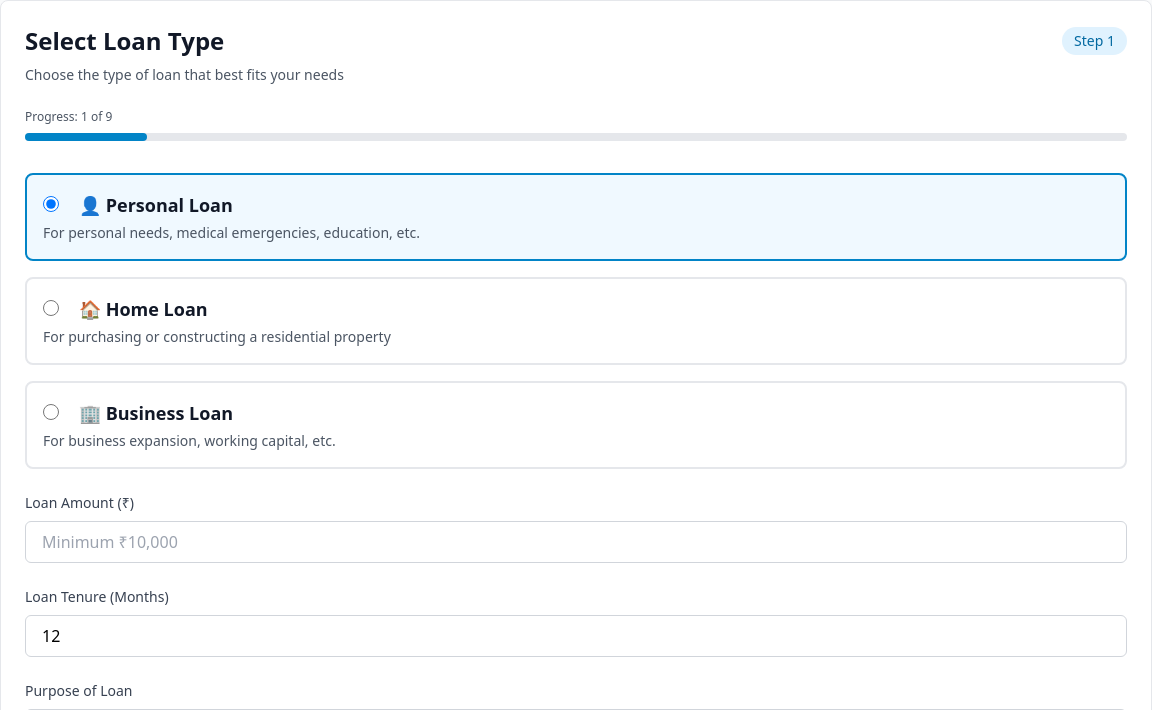
Step1LoanType Component › validates loan amount
Type "5000" into the number field with placeholder "Minimum ₹10,000" at (576, 542), box [25,521,1127,563]
(page scrolled)
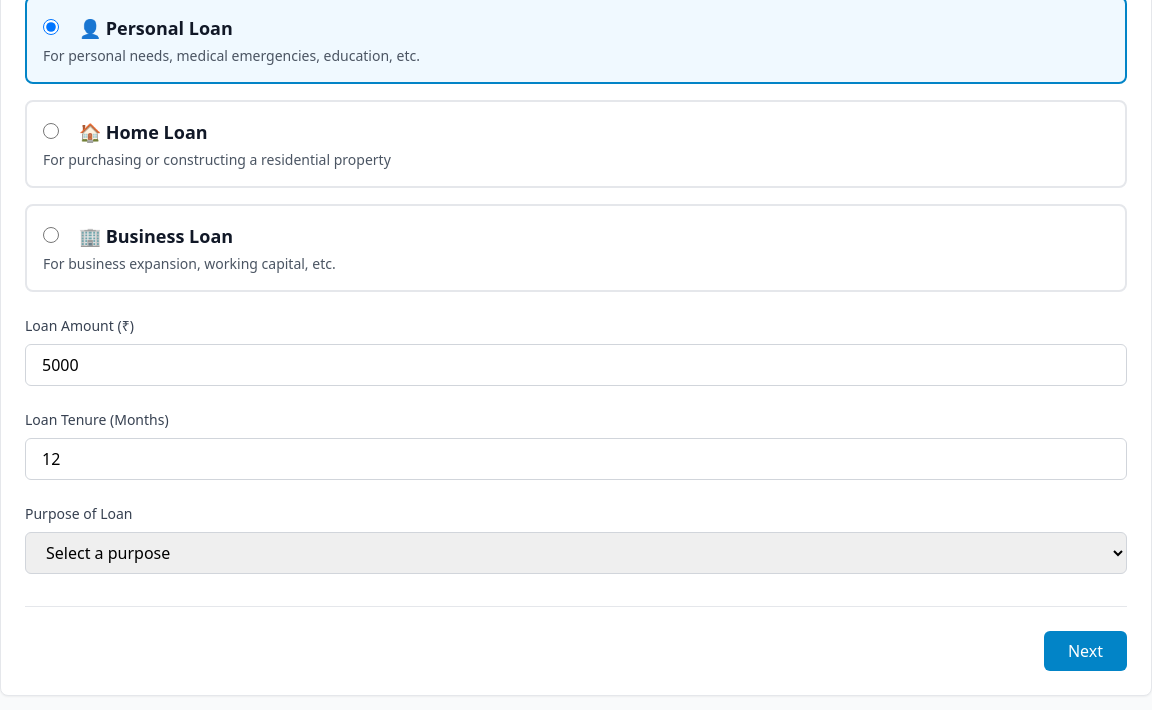
Click the button "Next" at (1085, 651), box [1044,631,1127,671]
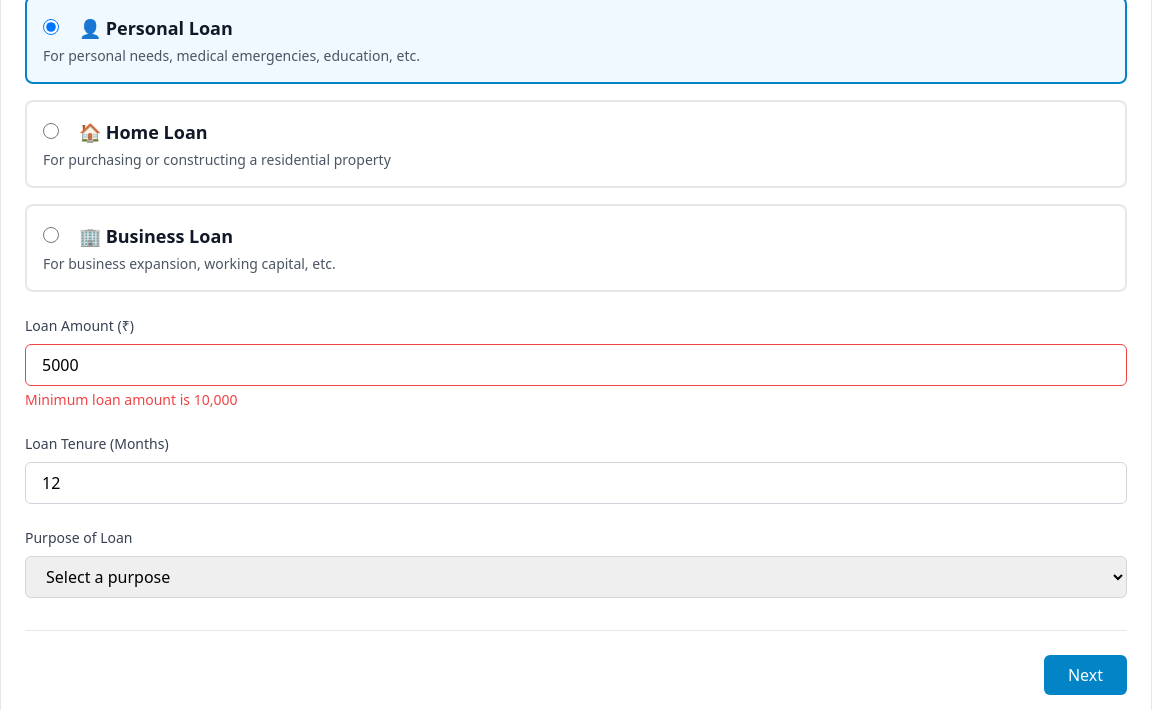
expect the text "Minimum loan amount is 10,000" is shown: met, box [25,390,237,409]
